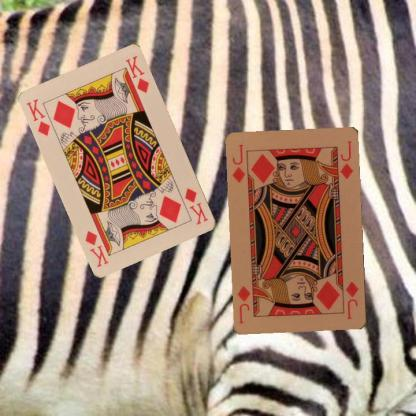Jd: (230, 142, 250, 186), (343, 278, 360, 321)
Kd: (181, 186, 210, 226), (24, 96, 52, 137)
